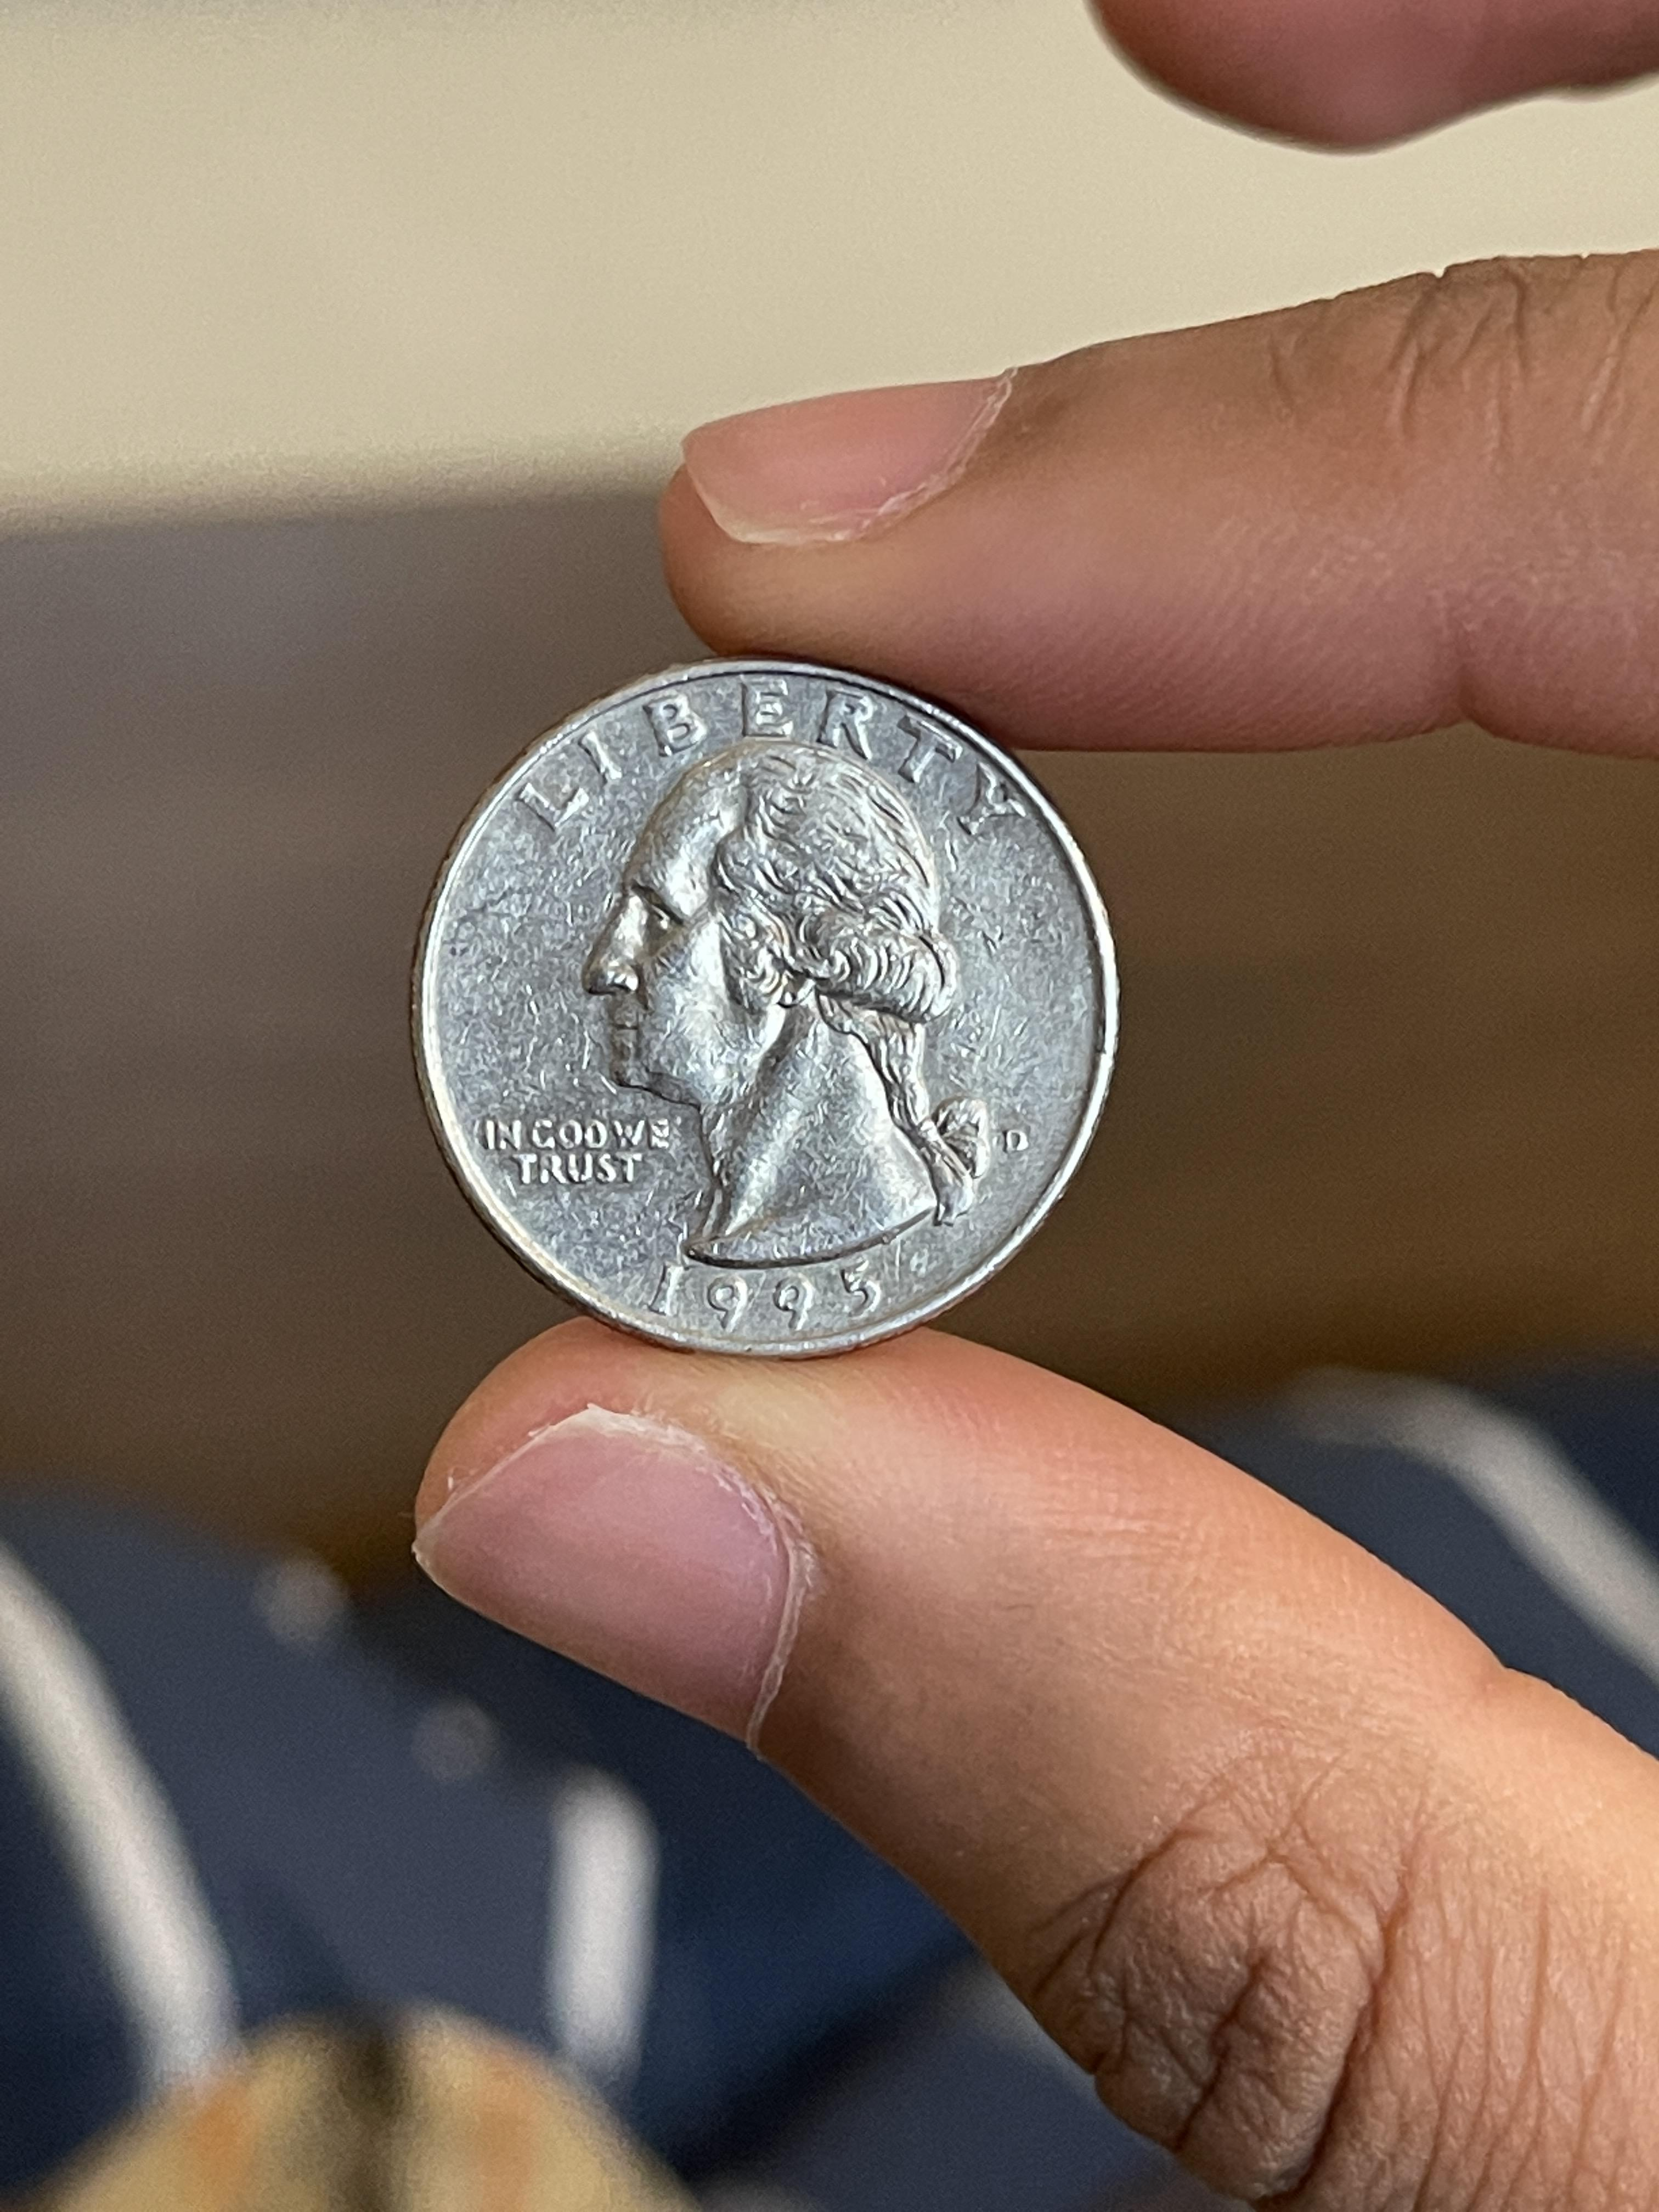Quarter: (403, 653, 1133, 1366)
